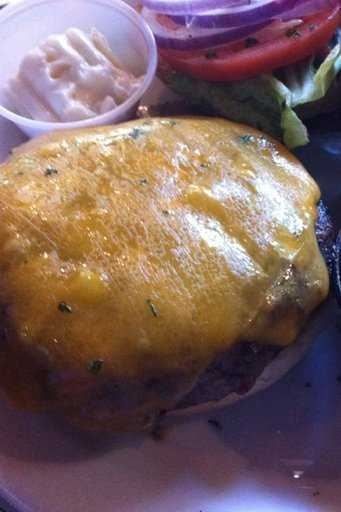hamburger: (1, 104, 326, 432)
